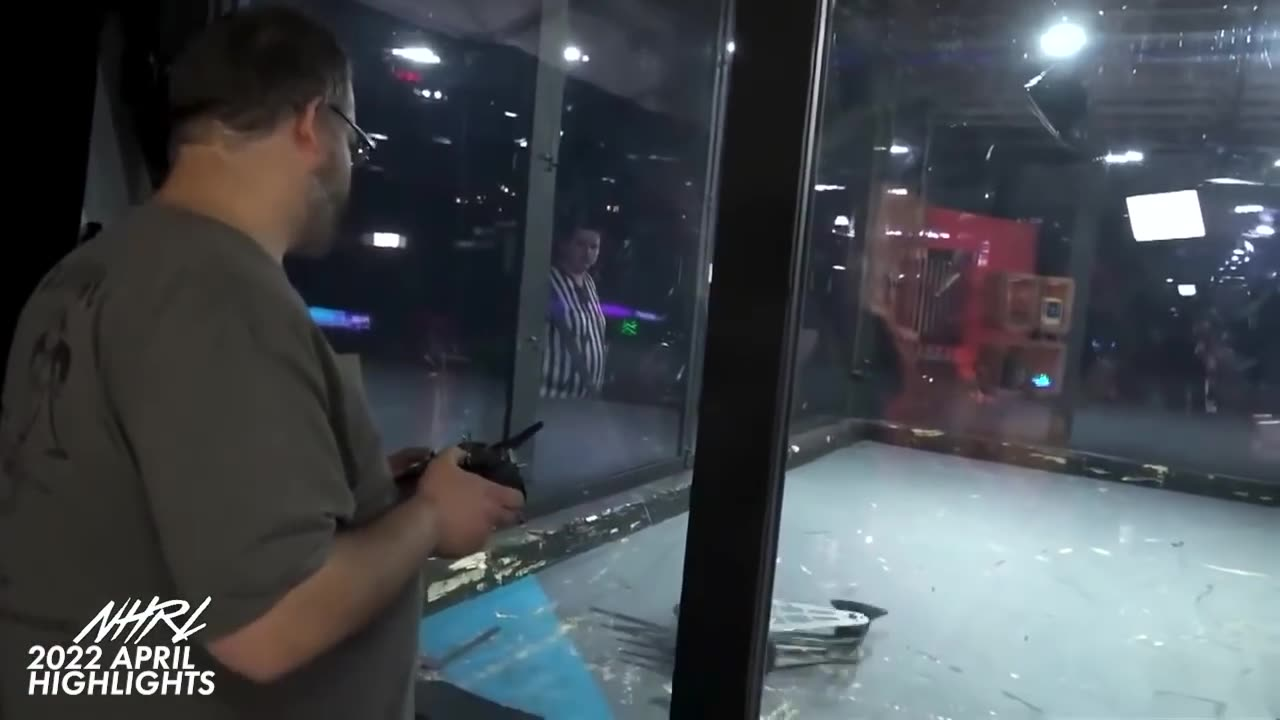combatbot: (768, 594, 887, 669)
